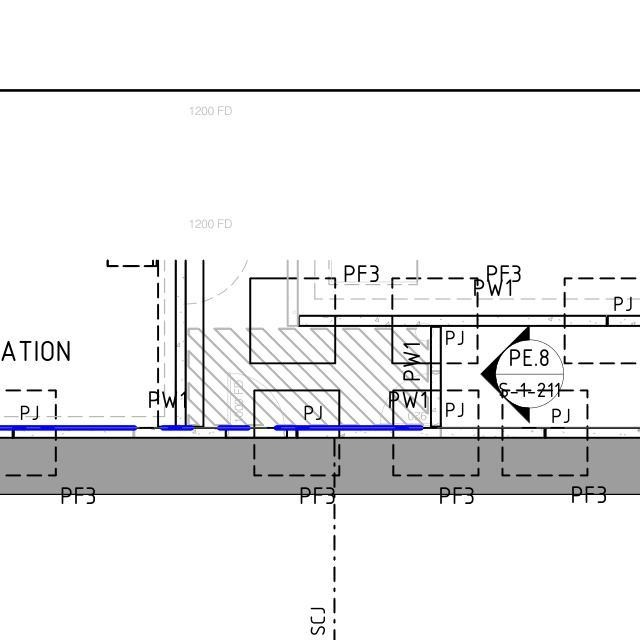PF3: (292, 484, 349, 514), (564, 479, 613, 513), (434, 477, 477, 511), (332, 259, 383, 284), (60, 479, 96, 508), (487, 257, 527, 277)
PJ: (293, 402, 330, 430), (7, 396, 41, 425), (601, 288, 635, 314), (541, 404, 576, 427), (441, 328, 473, 351), (444, 393, 466, 422)
PW1: (136, 382, 192, 417), (464, 276, 518, 302), (380, 384, 432, 408), (396, 334, 424, 374)
